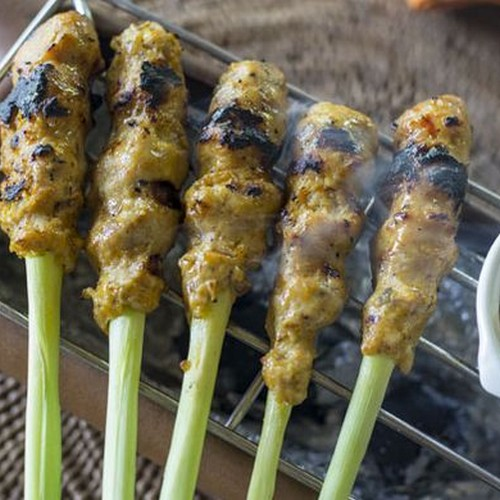sate languan: (363, 72, 477, 356), (187, 41, 286, 319), (281, 72, 360, 410), (99, 17, 179, 332), (13, 11, 84, 256)
